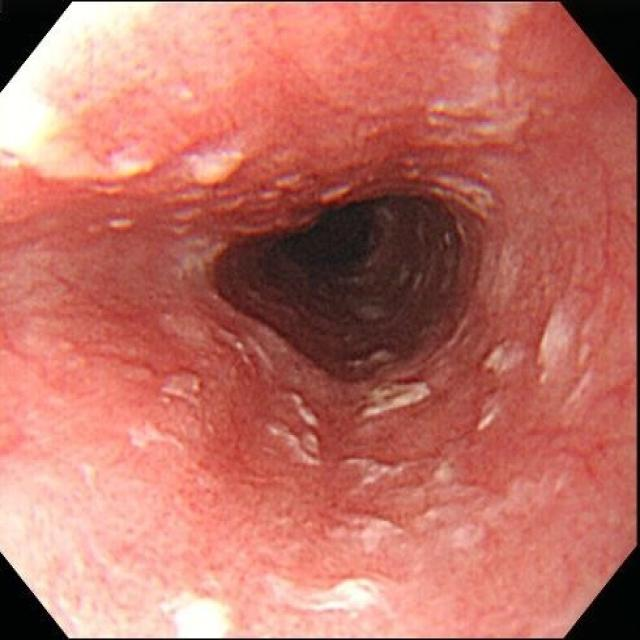E: (264, 195, 443, 333)
J: (434, 11, 524, 147), (425, 463, 545, 546), (268, 387, 324, 469), (355, 375, 436, 425), (535, 295, 576, 383), (430, 175, 499, 223), (342, 455, 421, 491), (179, 147, 245, 189), (100, 137, 158, 184), (327, 514, 404, 547), (481, 338, 528, 378), (153, 369, 204, 405), (347, 349, 398, 371)
U: (156, 574, 397, 636), (3, 65, 54, 151), (59, 3, 136, 42)
